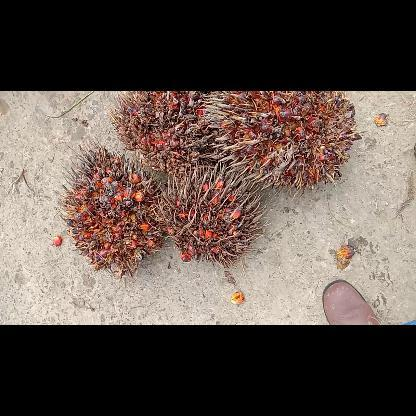Terlalu masak: (48, 136, 170, 286), (202, 91, 366, 199), (148, 161, 272, 269), (107, 90, 225, 182)
